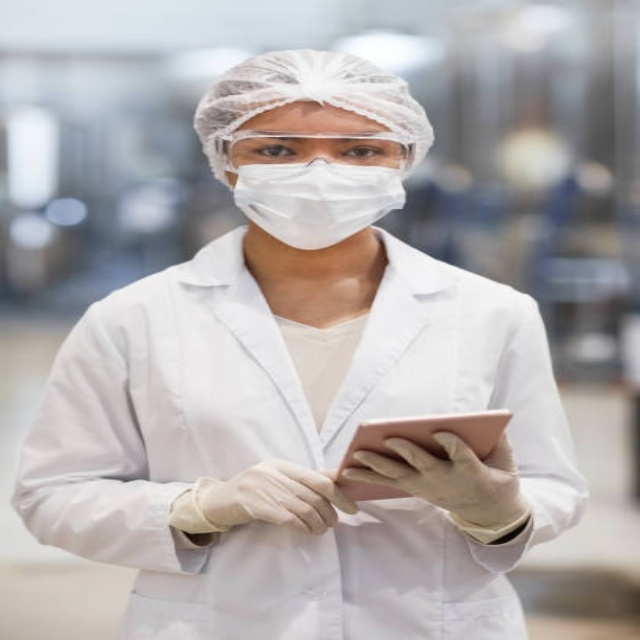Gafas: (219, 128, 414, 171)
Guantes: (341, 428, 529, 532), (179, 457, 349, 539)
Mascara: (226, 153, 411, 247)
